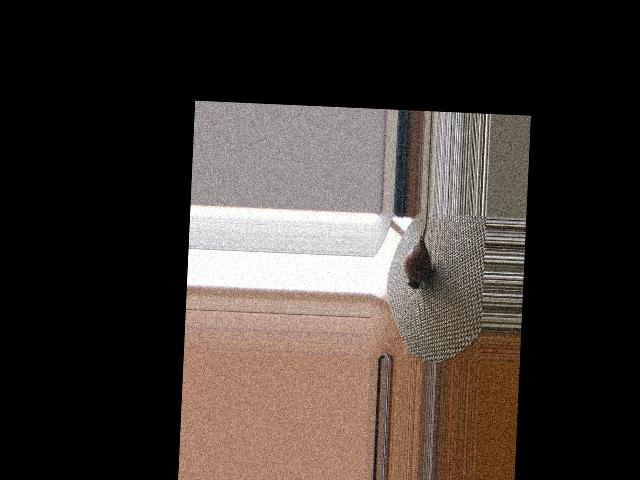beet: (402, 212, 433, 289)
